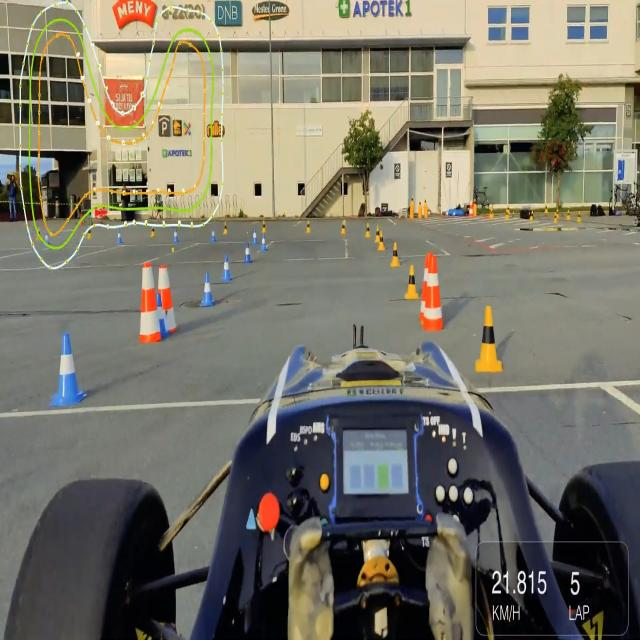blue_cone: (52, 331, 84, 407), (197, 255, 219, 309), (220, 245, 236, 288), (256, 225, 274, 259), (240, 235, 256, 268)
large_orange_cone: (422, 246, 445, 330), (137, 262, 158, 344), (160, 258, 178, 337)
yellow_cone: (466, 300, 505, 373), (404, 260, 422, 295), (388, 236, 402, 267)
